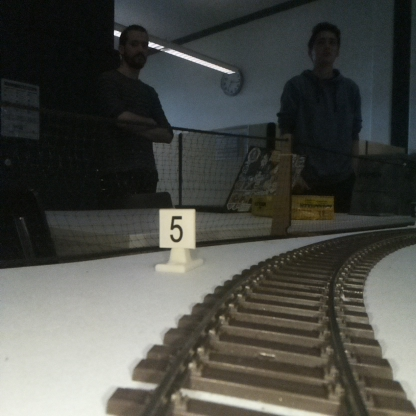white-stop-5: (159, 209, 194, 269)
